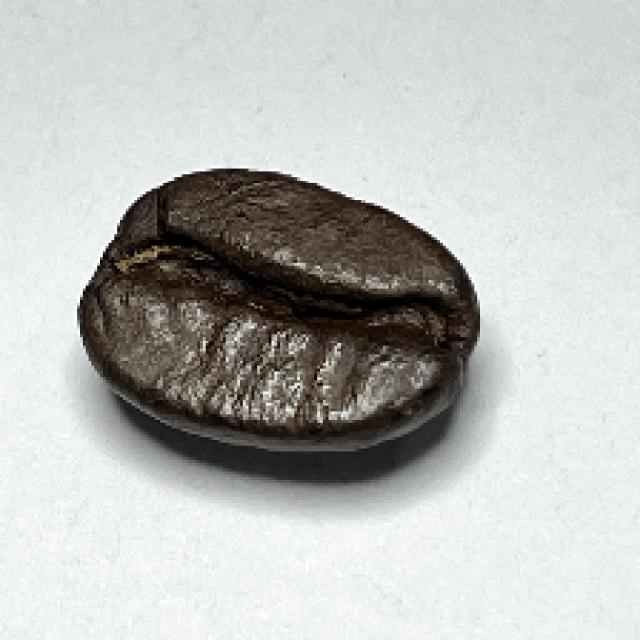bean: (75, 168, 481, 454)
